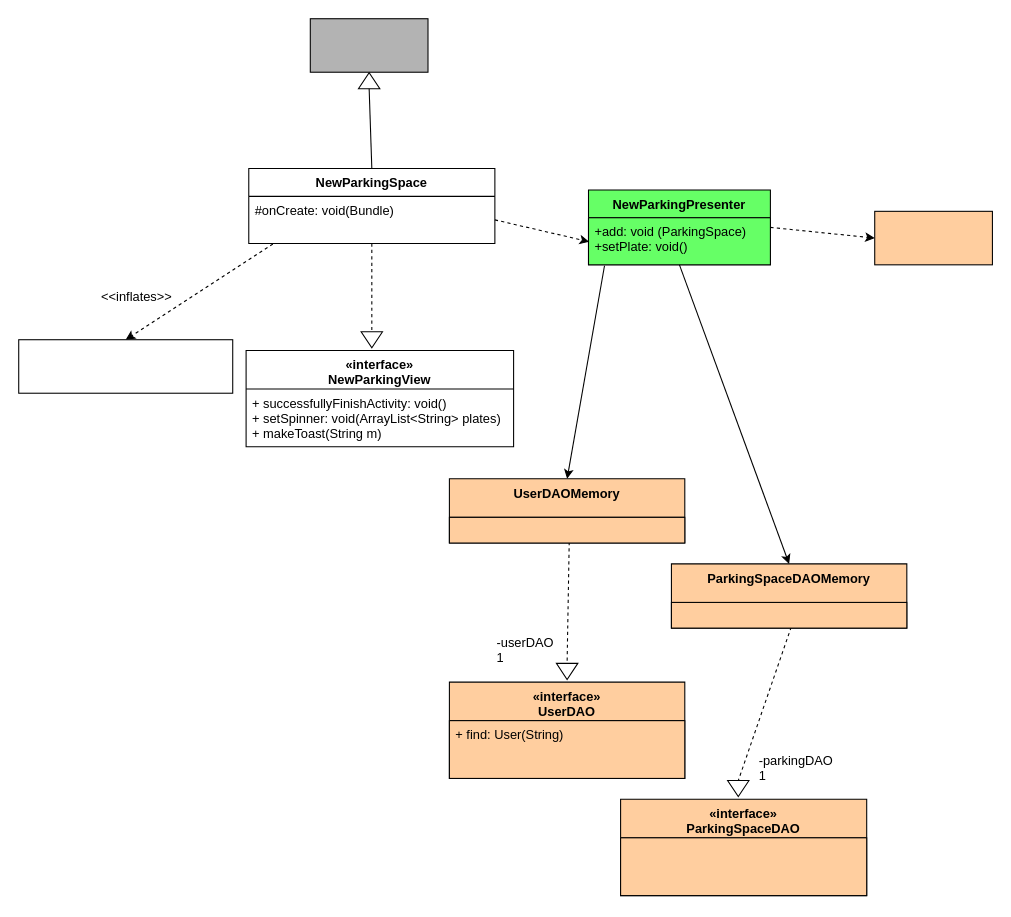
This 1011x917 diagram has some shape labels left out. Here are the shapes that lost their labels. From the top down, the centre of each, then its label:
At pixel 368 45: "AppCompatActivity".
At pixel 933 237: "User".
At pixel 125 366: "«layout» activity_new_parking_space.xml".
At pixel 743 866: "+ save: void(ParkingSpace) + find: ParkingSpace(ParkingSpace)".
